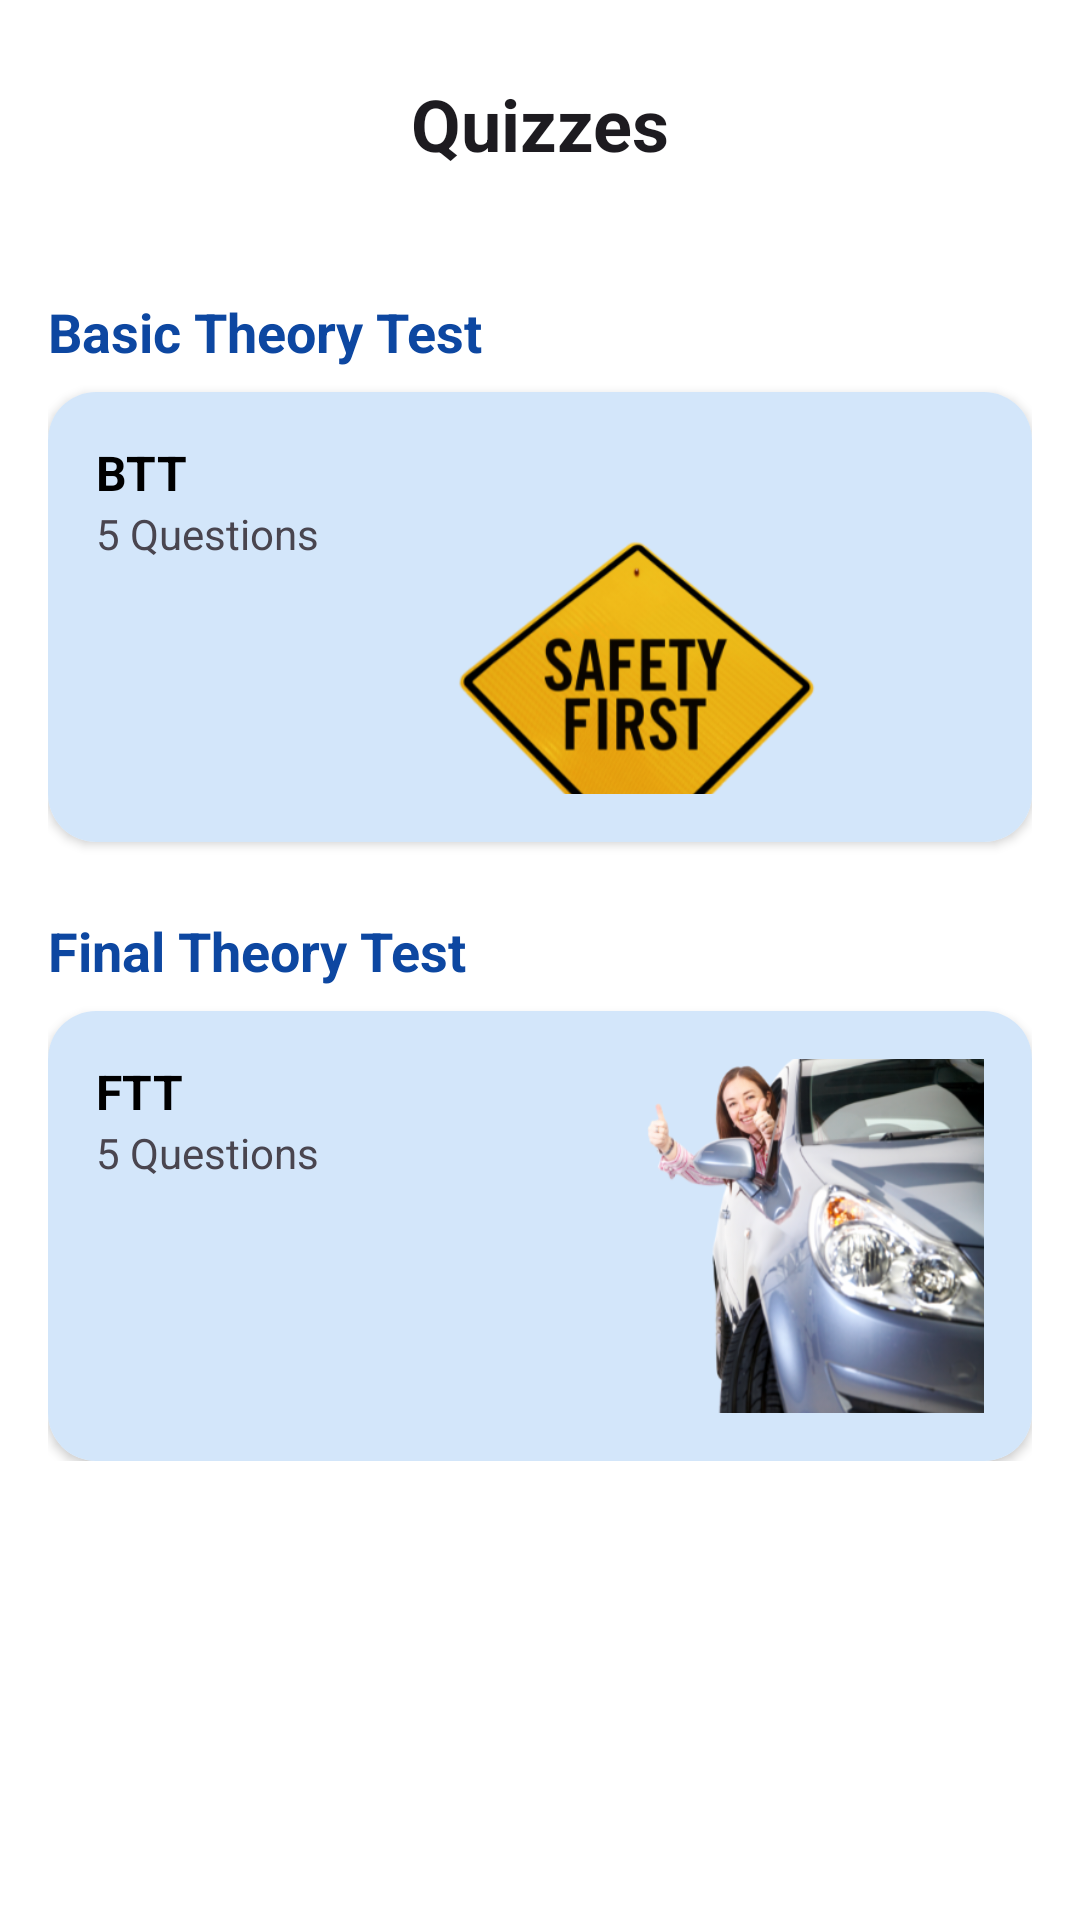

Icon bounding boxes for this 1080x1920 phone screenshot, format (x1, y1, x2, y2):
lady in car: (648, 1059, 984, 1413)
